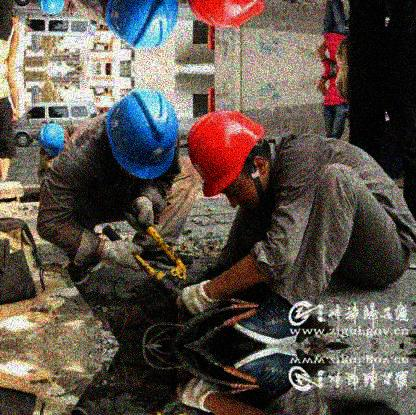helmet: (188, 110, 266, 213), (104, 88, 178, 181)
